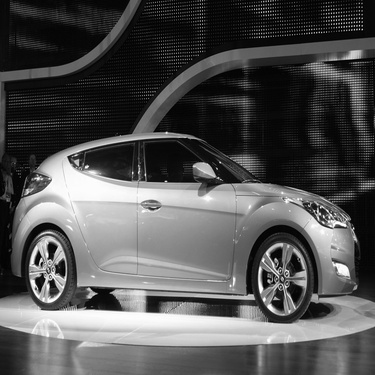car: (9, 127, 370, 330)
